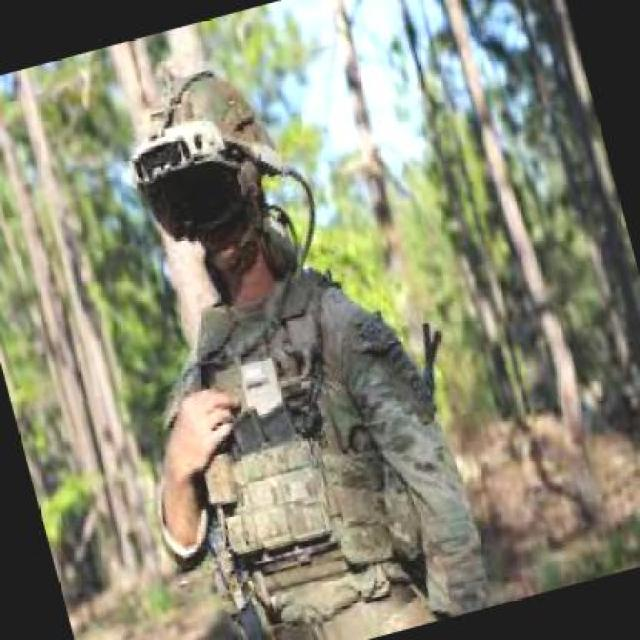MIL_Pax: (43, 27, 500, 638)
